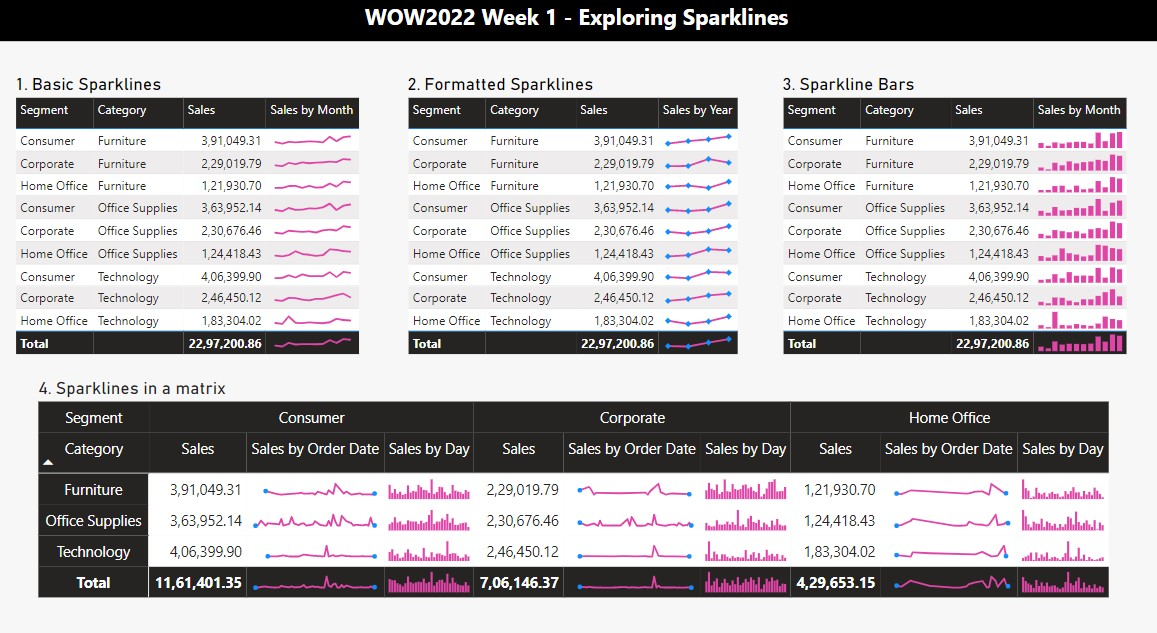

What the dashboard file says about the page in this screenshot:
{"tool":"powerbi","page":{"name":"Page 1","canvas":[1280,720],"ordinal":0},"visuals":[{"type":"tableEx","title":"1. Basic Sparklines","fields":{"Values":["Orders.Segment","Orders.Category","Sum(Orders.Sales)","SparklineData(Sum(Orders.Sales)_[Orders.Order Date.Variation.Date Hierarchy.Month])"]},"box":[17.9,97.5,418.9,315.9],"z":0},{"type":"tableEx","title":"2. Formatted Sparklines","fields":{"Values":["Orders.Segment","Orders.Category","Sum(Orders.Sales)","SparklineData(Sum(Orders.Sales)_[Orders.Order Date.Variation.Date Hierarchy.Year])"]},"box":[449.1,97.5,381.8,315.9],"z":1000},{"type":"tableEx","title":"3. Sparkline Bars","fields":{"Values":["Orders.Segment","Orders.Category","Sum(Orders.Sales)","SparklineData(Sum(Orders.Sales)_[Orders.Order Date.Variation.Date Hierarchy.Month])"]},"box":[861.1,97.5,399.7,315.9],"z":2000},{"type":"pivotTable","title":"4. Sparklines in a matrix","fields":{"Columns":["Orders.Segment"],"Rows":["Orders.Category"],"Values":["Sum(Orders.Sales)","SparklineData(Sum(Orders.Sales)_[Orders.Order Date])","SparklineData(Sum(Orders.Sales)_[Orders.Order Date.Variation.Date Hierarchy.Day])"]},"box":[43.9,431.2,1192.1,262.3],"z":3000},{"type":"textbox","box":[0,13.7,1280,48.1],"z":4000}]}

Visuals, with their boxes in screenshot pixels (x1, y1, x2, y2), scaled from the page's 1280x720 canvas onto the 1157x633 screenshot:
"1. Basic Sparklines" tableEx: x1=16, y1=86, x2=395, y2=363
"2. Formatted Sparklines" tableEx: x1=406, y1=86, x2=751, y2=363
"3. Sparkline Bars" tableEx: x1=778, y1=86, x2=1140, y2=363
"4. Sparklines in a matrix" pivotTable: x1=40, y1=379, x2=1117, y2=610
textbox: x1=0, y1=12, x2=1156, y2=54
